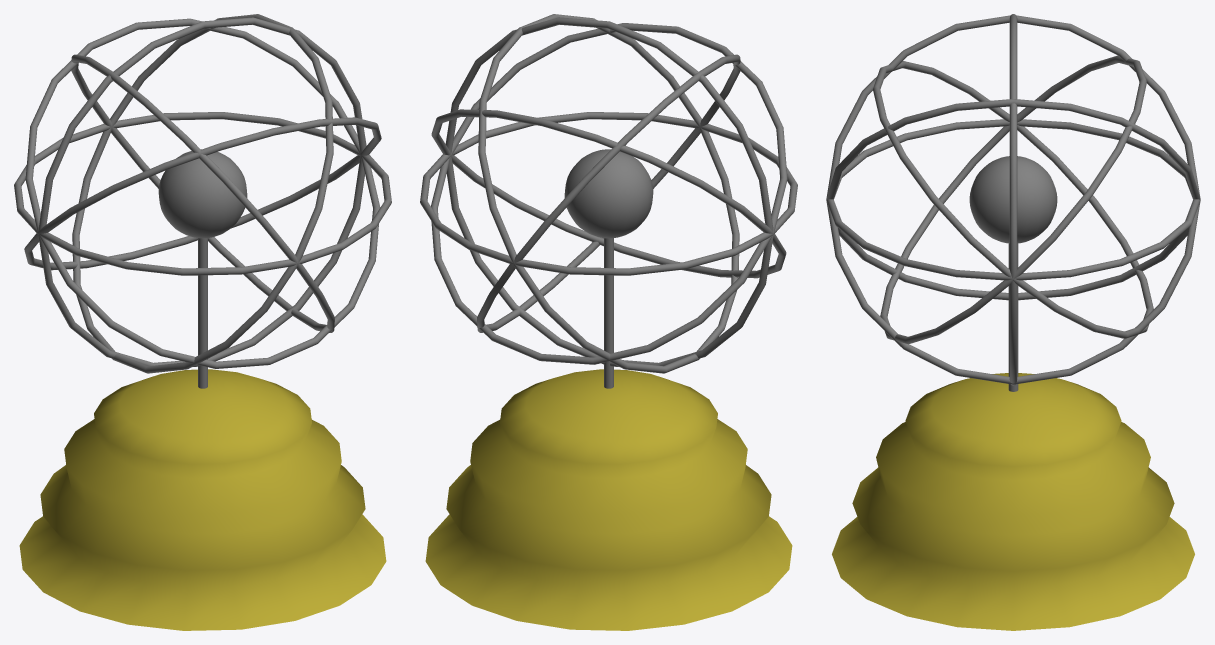
File: Hat3textured.fbx
3 views of the same model, side by side, from view 1: azimuth 30°, elevation 25°; view 2: azimuth 150°, elevation 25°; view 3: azimuth 270°, elevation 25° (orthographic).
Parts seen in each view (by area): view 1: group8; view 2: group8; view 3: group8.
Boxes of the visible parts, <box> form: group8: <box>14,14,391,630</box>; group8: <box>420,14,797,630</box>; group8: <box>826,14,1200,630</box>.
Bounding box in the file's own units: 2.06 × 3.18 × 2.06.
